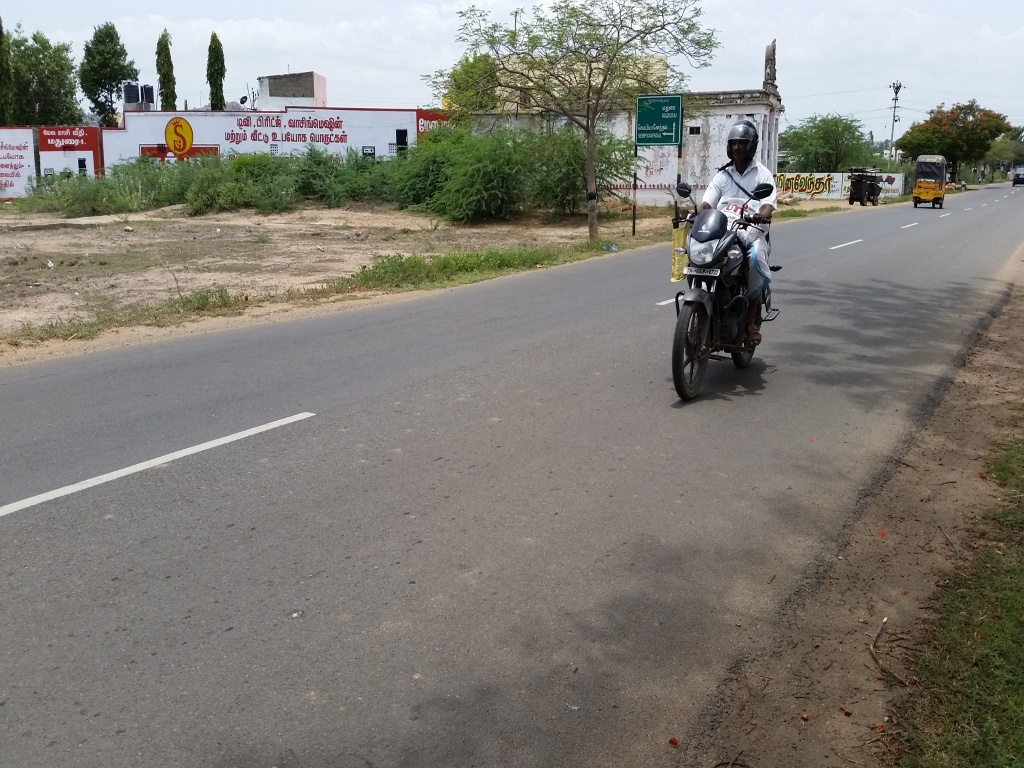biker: (640, 101, 808, 414)
helmet: (721, 117, 768, 182)
